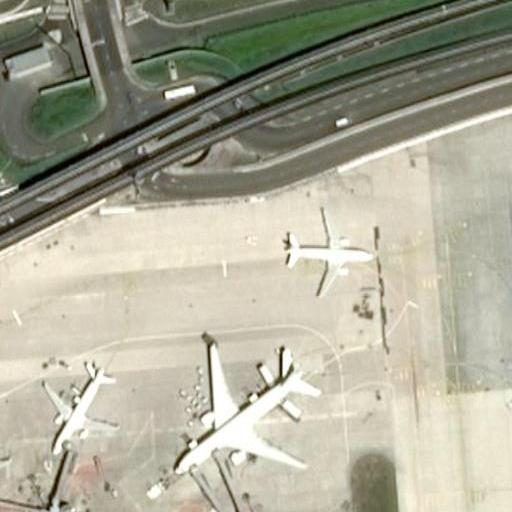Aircraft: (171, 339, 326, 480), (272, 204, 375, 300), (40, 354, 119, 455), (0, 405, 13, 511)
